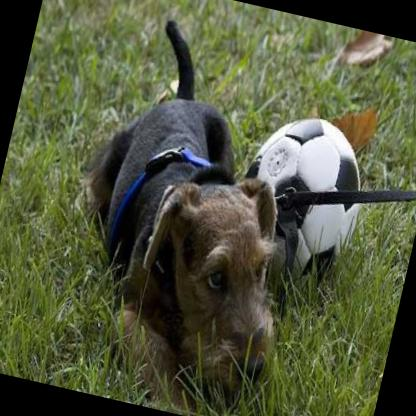ball: (222, 107, 378, 293)
